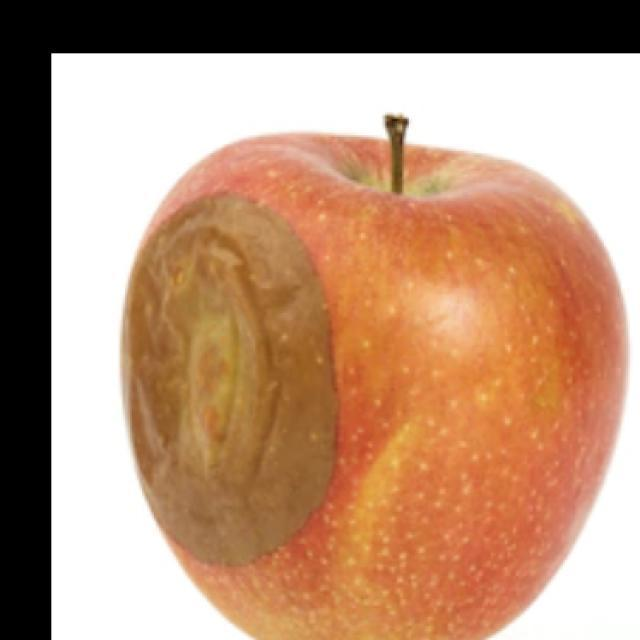Rotten: (105, 145, 607, 640)
